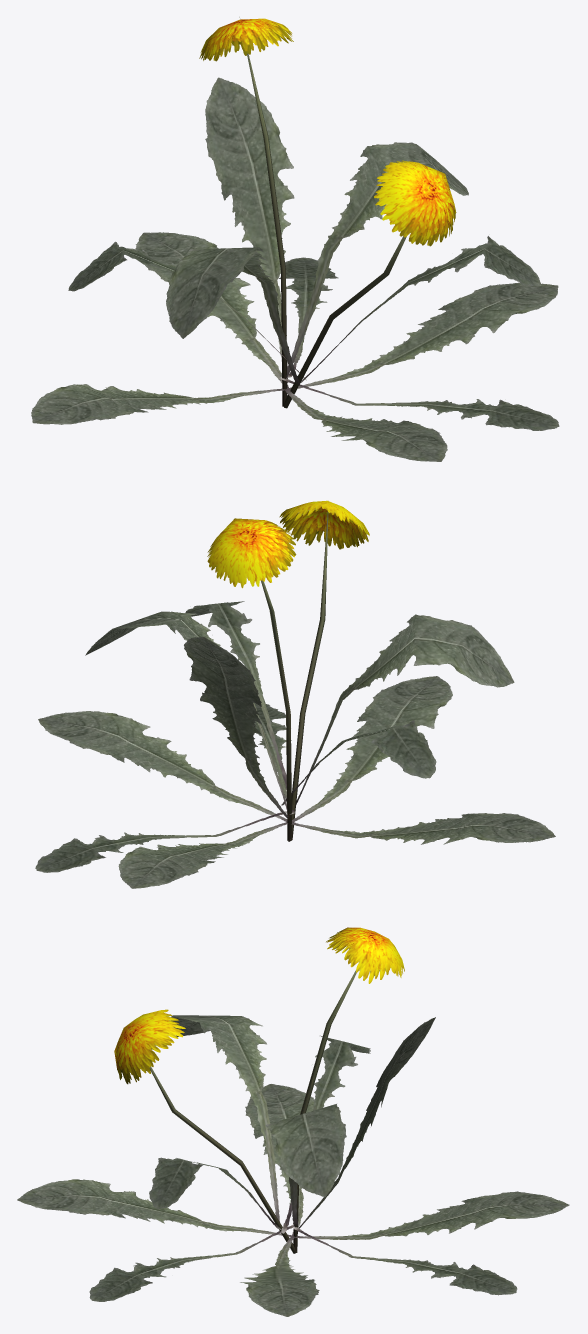
File: Oduvanchik01.FBX
3 renders of one model, top to bottom at view 1: azimuth 30°, elevation 25°; view 2: azimuth 150°, elevation 25°; view 3: azimuth 270°, elevation 25°, orthographic. The views are drawn at different scales.
Visible parts, largest first — view 1: Oduvanchik01; view 2: Oduvanchik01; view 3: Oduvanchik01.
Boxes of the visible parts, x1=… form: Oduvanchik01: x1=31, y1=17, x2=559, y2=461; Oduvanchik01: x1=35, y1=500, x2=555, y2=888; Oduvanchik01: x1=17, y1=927, x2=569, y2=1316.
Size of the model in its own units: 11.82 by 7.55 by 11.88.
